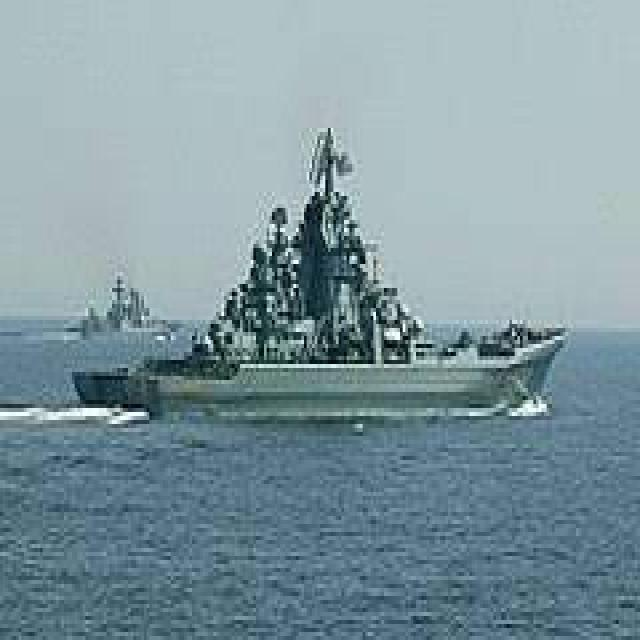navalvessels: (73, 138, 569, 443), (71, 275, 173, 341)
